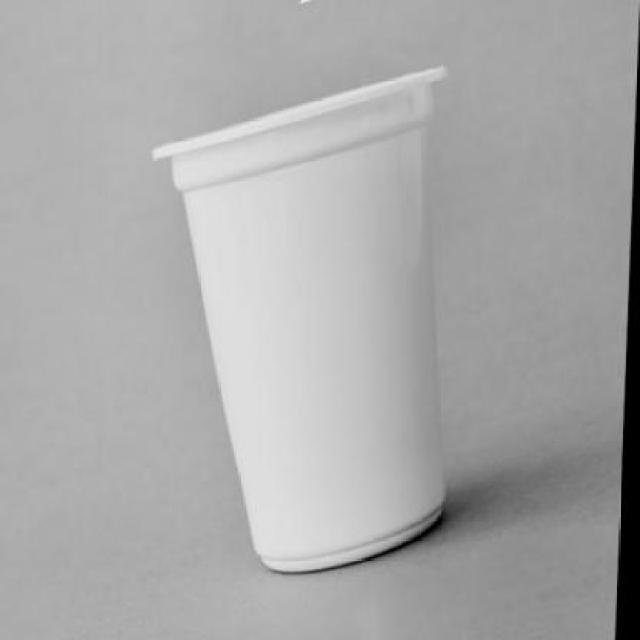Plastic: (152, 59, 467, 581)
